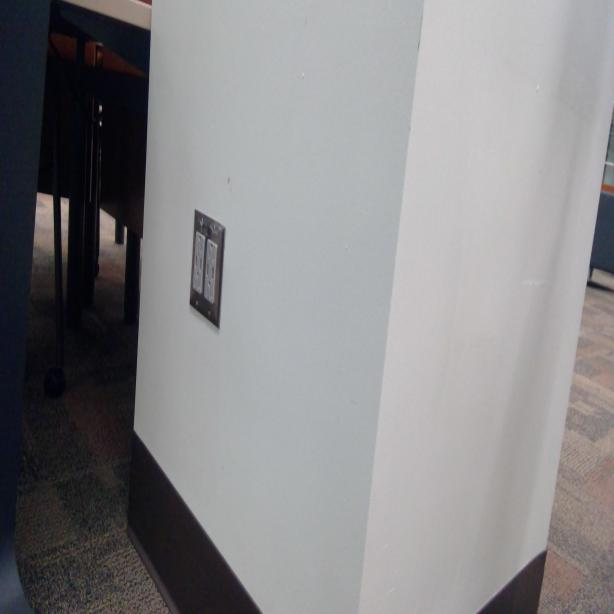typeb: (204, 277, 217, 304), (206, 239, 216, 267), (192, 270, 203, 294), (194, 232, 203, 256)
